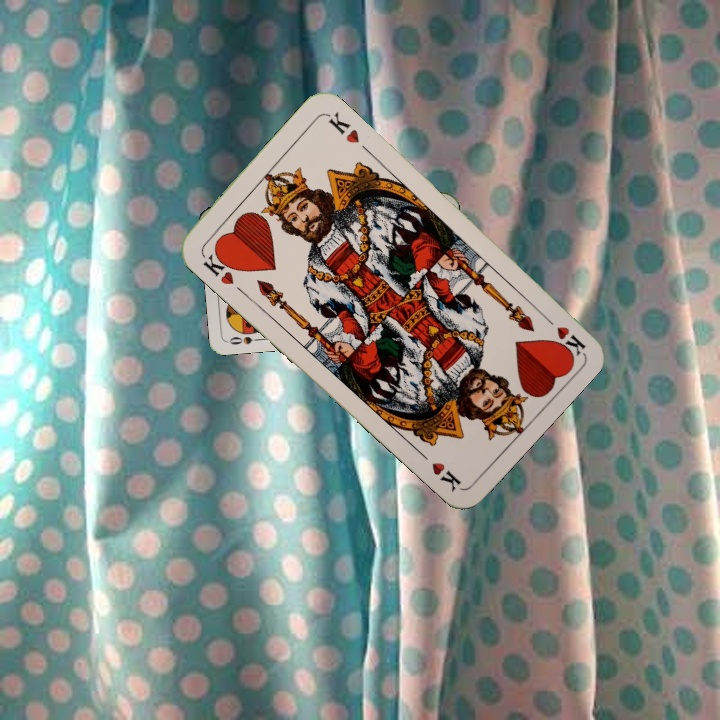HK: (537, 309, 588, 357), (199, 245, 240, 288)
SO: (224, 333, 264, 347)
